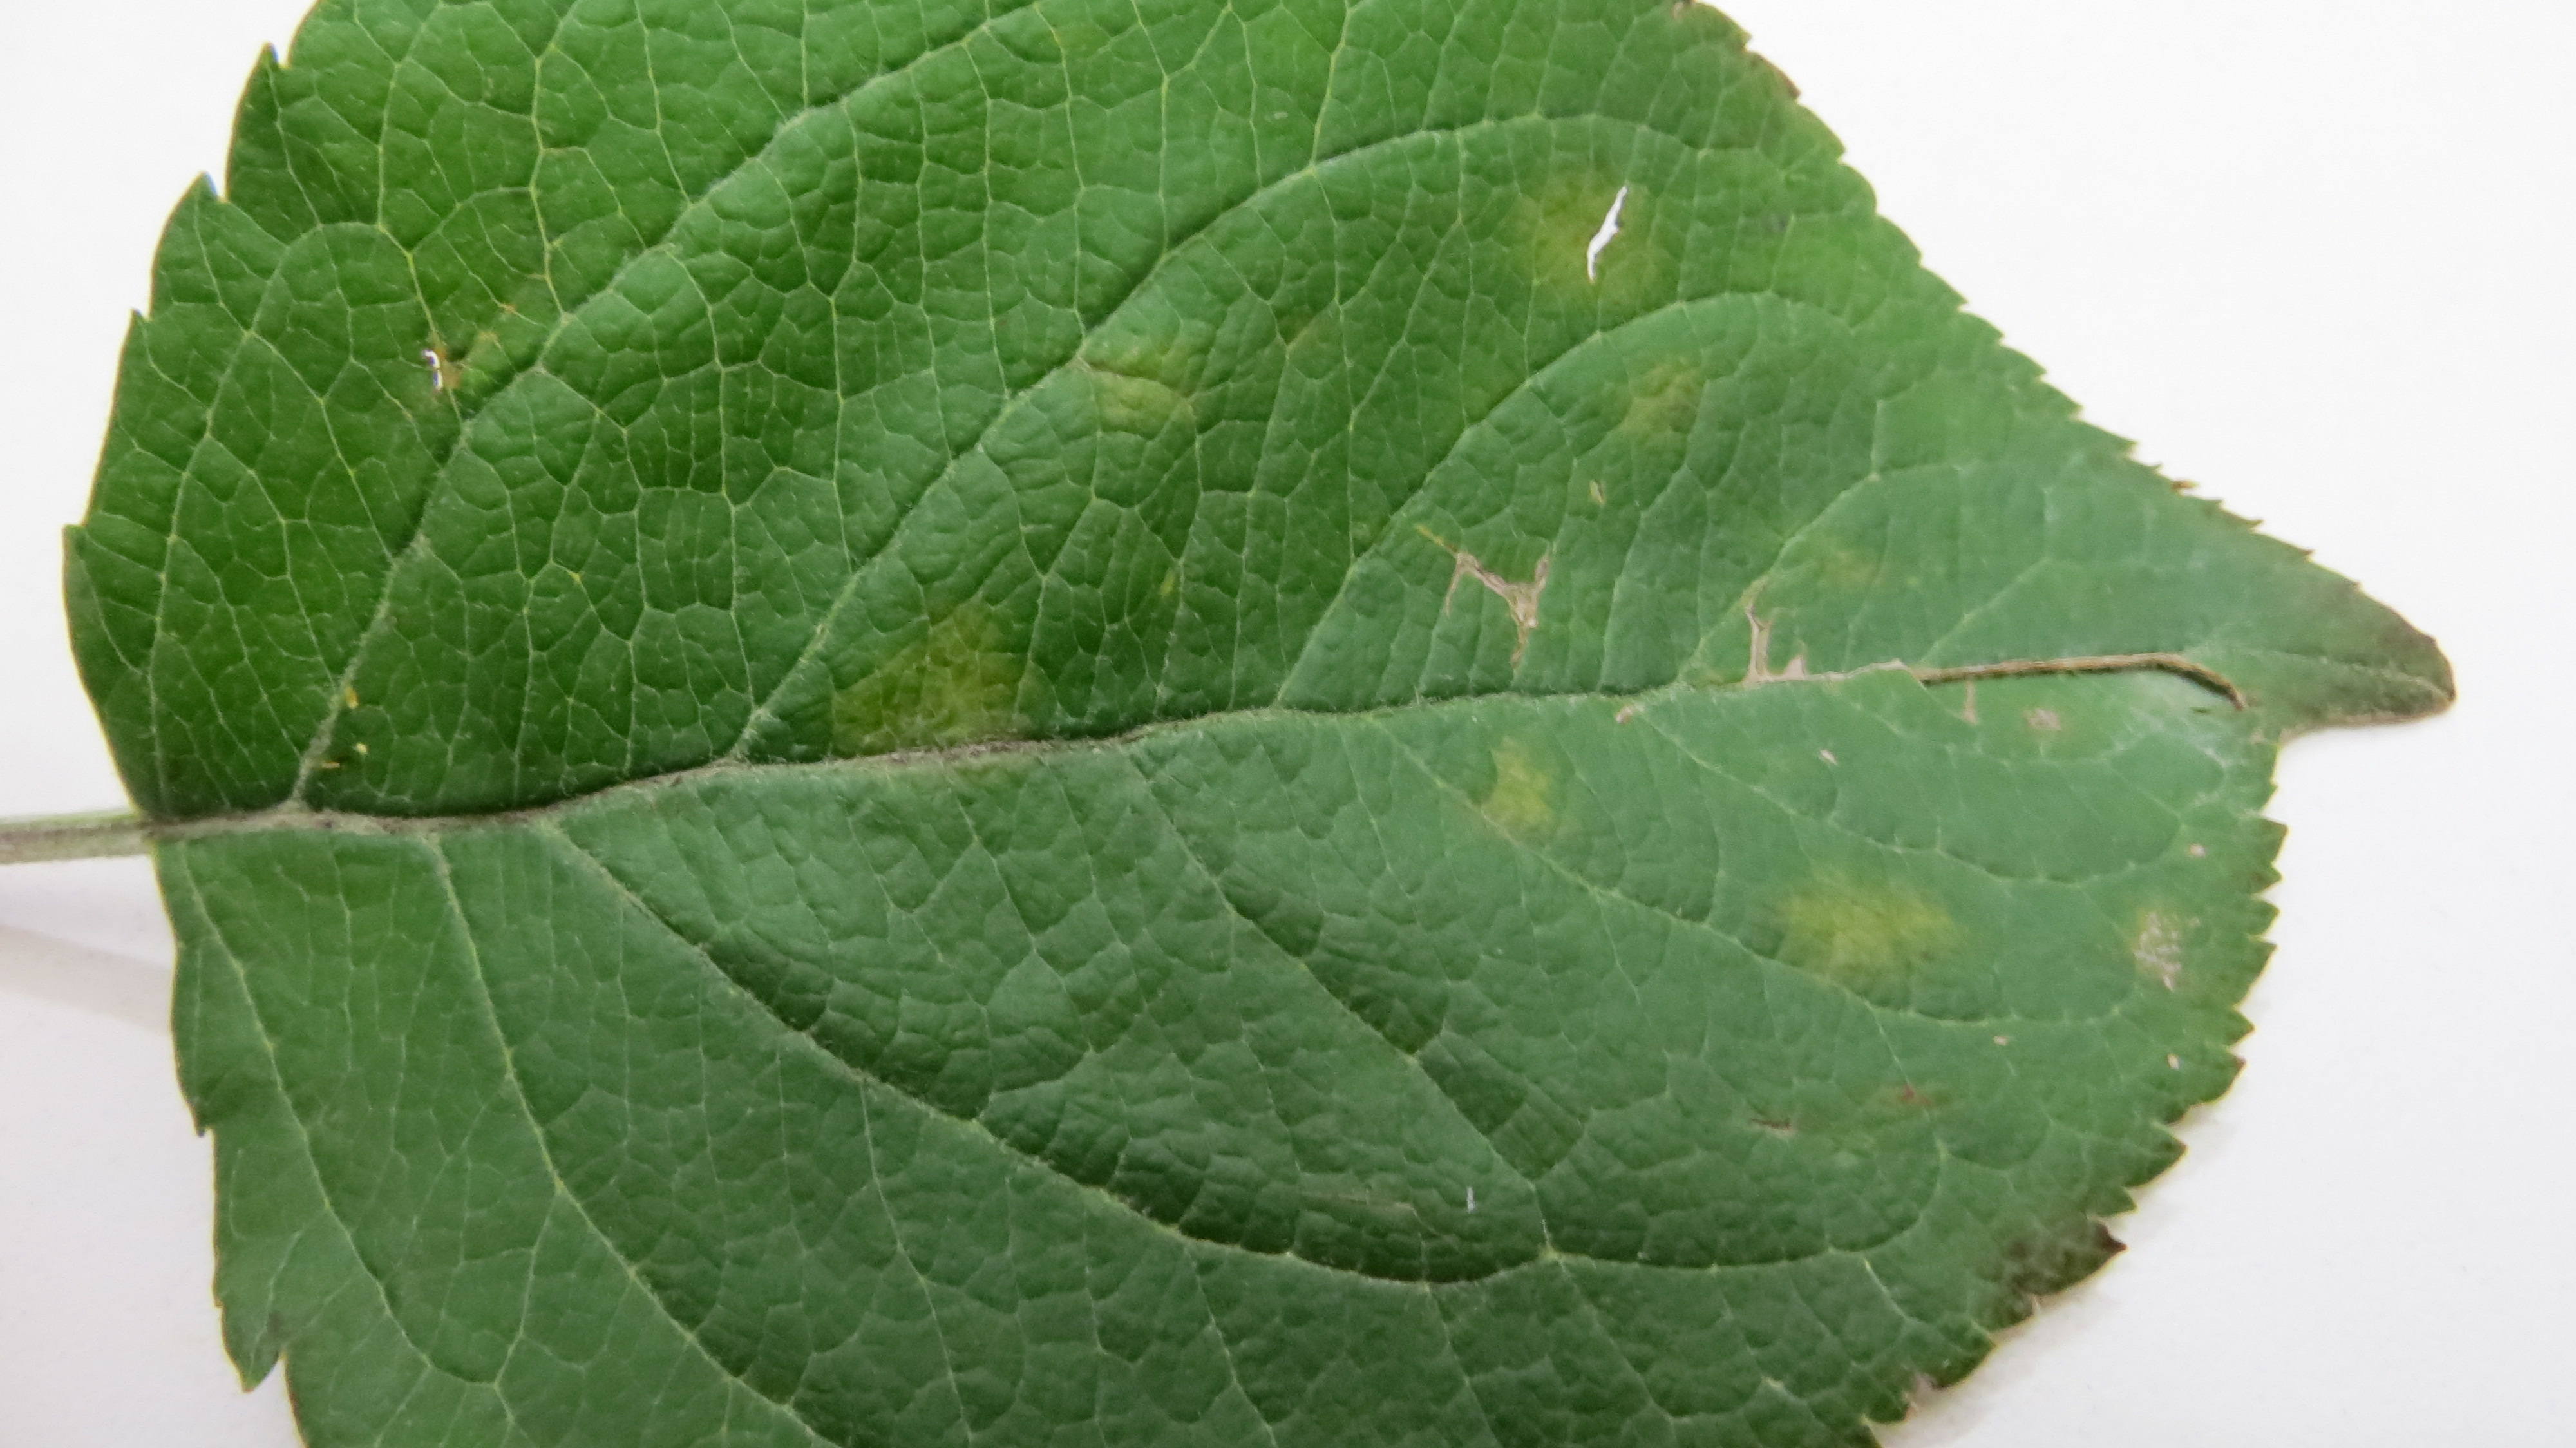sarna: (814, 588, 1046, 786), (1787, 851, 1987, 1018), (1470, 719, 1619, 867), (1509, 177, 1667, 313), (1070, 306, 1208, 446), (1587, 319, 1713, 457)
